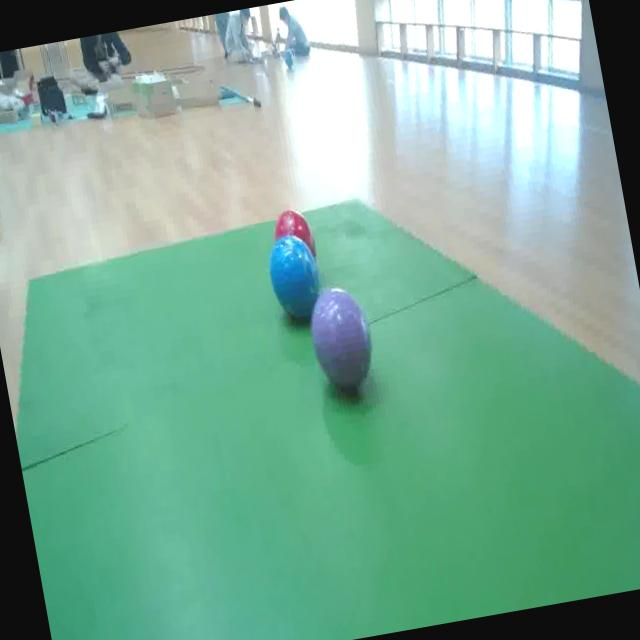blue_ball: (265, 232, 326, 325)
purple_ball: (304, 283, 378, 393)
red_ball: (272, 208, 318, 264)
